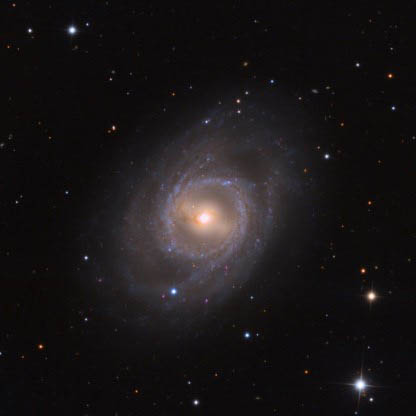Messier 95: (87, 96, 323, 335)
